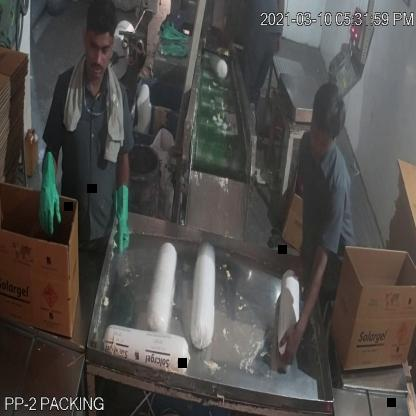glove: (33, 141, 63, 240), (112, 177, 136, 265)
no_glove: (280, 224, 336, 378)
